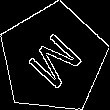M_SE: (20, 25, 87, 92)
